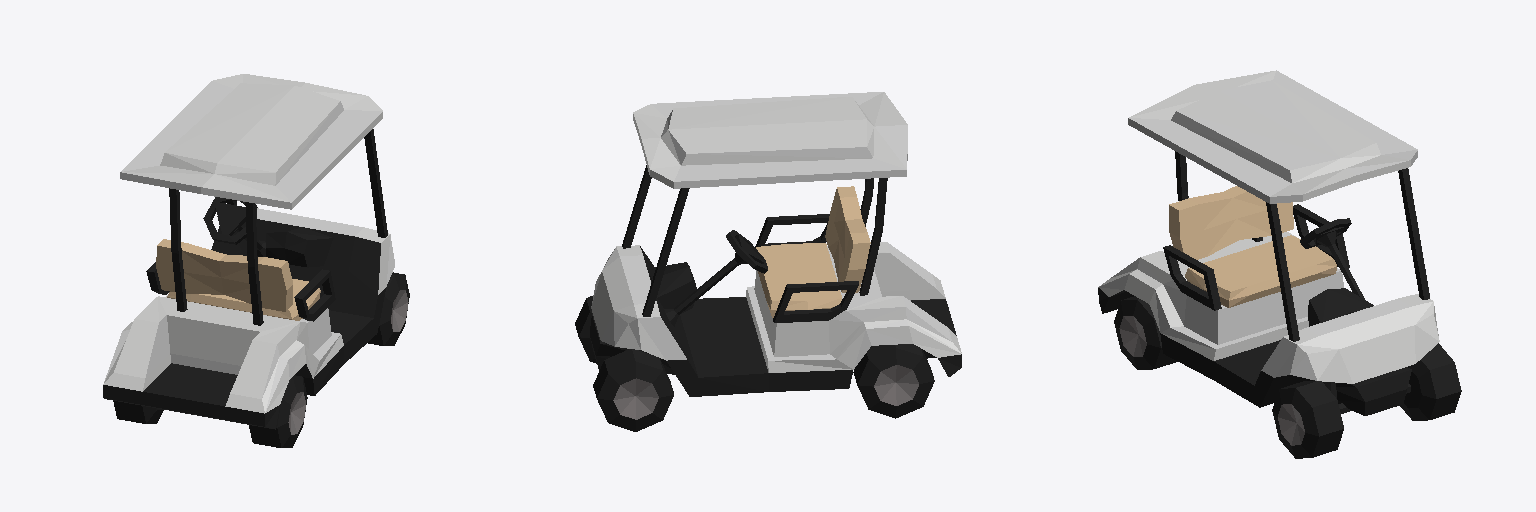
File: golf_cart_base.obj
The picture shows the model from 3 angles: view 1: azimuth 30°, elevation 25°; view 2: azimuth 150°, elevation 25°; view 3: azimuth 270°, elevation 25°; orthographic projection.
Parts seen in each view (by area): view 1: golf_cart_base_Scene; view 2: golf_cart_base_Scene; view 3: golf_cart_base_Scene.
Boxes of the visible parts, x1,y1,x2,y2 form: golf_cart_base_Scene: [103, 74, 409, 447]; golf_cart_base_Scene: [575, 92, 961, 431]; golf_cart_base_Scene: [1098, 70, 1461, 458].
Size of the model in its own units: 1.82 by 1.32 by 1.65.